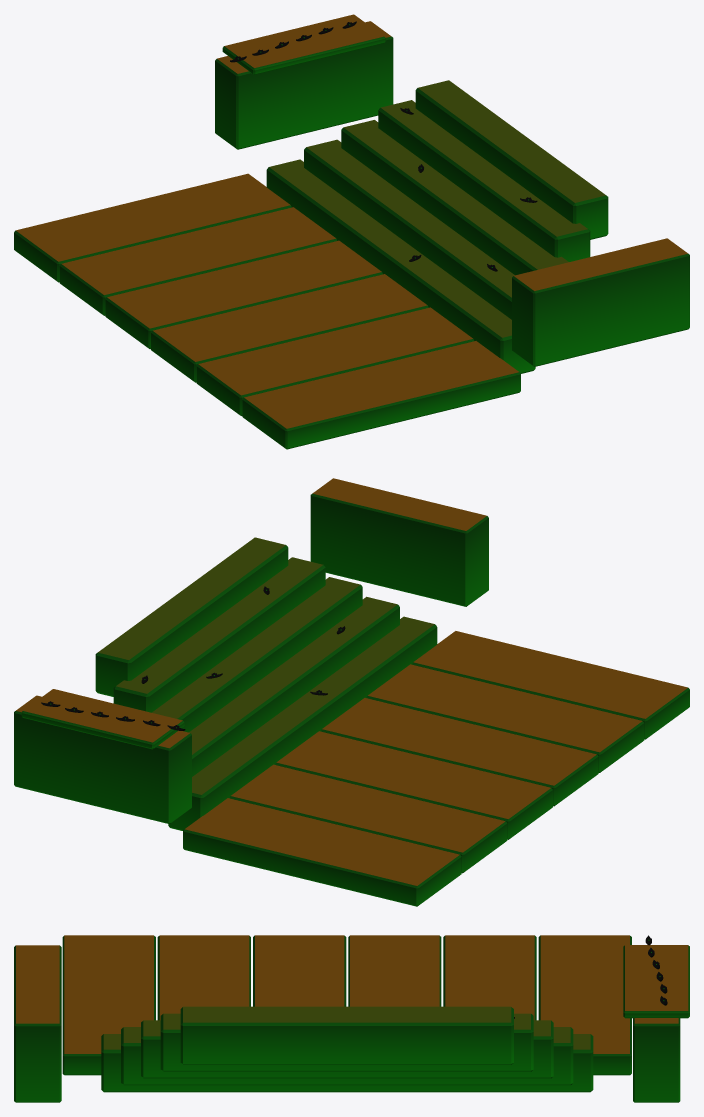
Rendered from shrine_steps.glb.
3 renders of one model, top to bottom at view 1: azimuth 30°, elevation 25°; view 2: azimuth 150°, elevation 25°; view 3: azimuth 270°, elevation 25°, orthographic. The views are drawn at different scales.
Parts seen in each view (by area): view 1: shrine_steps; view 2: shrine_steps; view 3: shrine_steps.
Part boxes in pixels (x1,y1,x2,y2): shrine_steps: (14,14,689,449); shrine_steps: (14,478,689,906); shrine_steps: (14,935,689,1102).
Size of what is drawn, in the model's own units: 5.79 by 1.9 by 8.52.
